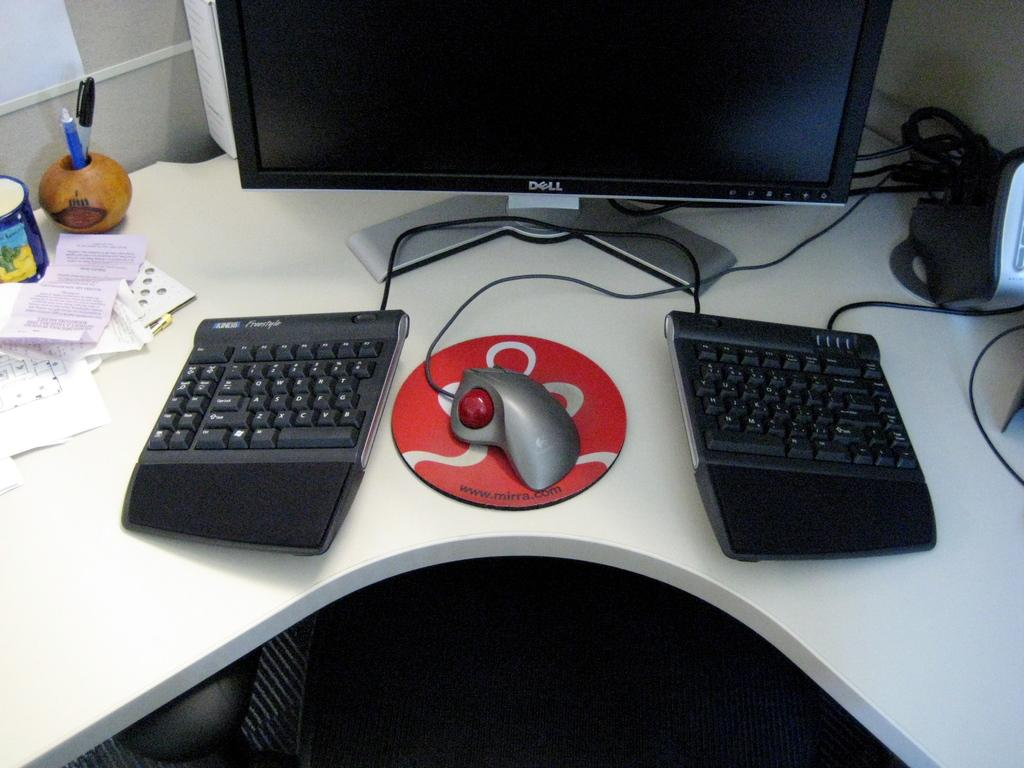Computer-mouse: (447, 363, 583, 486)
